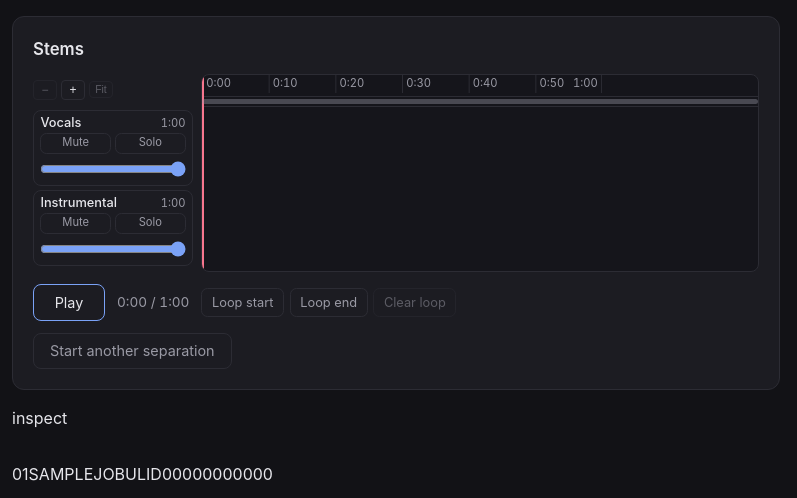
StemPlayer loop region (feature 053) › marks the loop start at the playhead, running to the end of the mix
This screenshot has width=797, height=498.
Expected: the button with aria-label "Mute vocals" is shown, [40,133,111,154]
Expected: the button "Play" is enabled, [33,284,105,321]
Press the mouse on the slider named "Seek" at (480, 189), box [202,107,758,271]
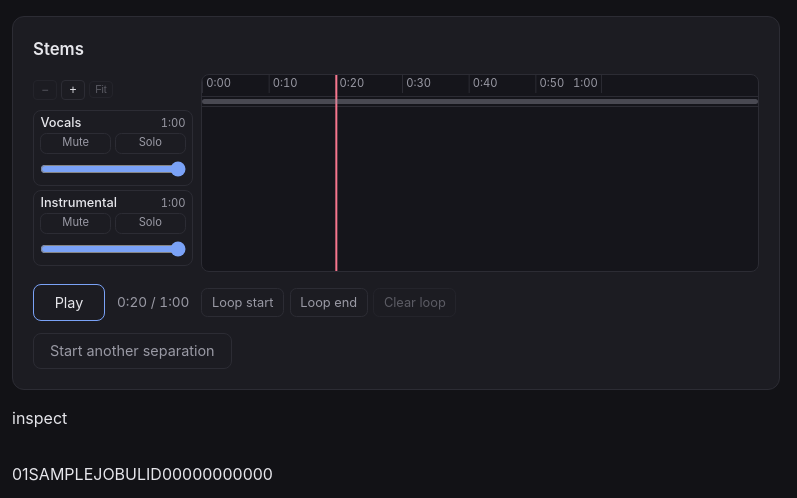
Click the button "Loop start" at (243, 302), box [201,288,284,317]
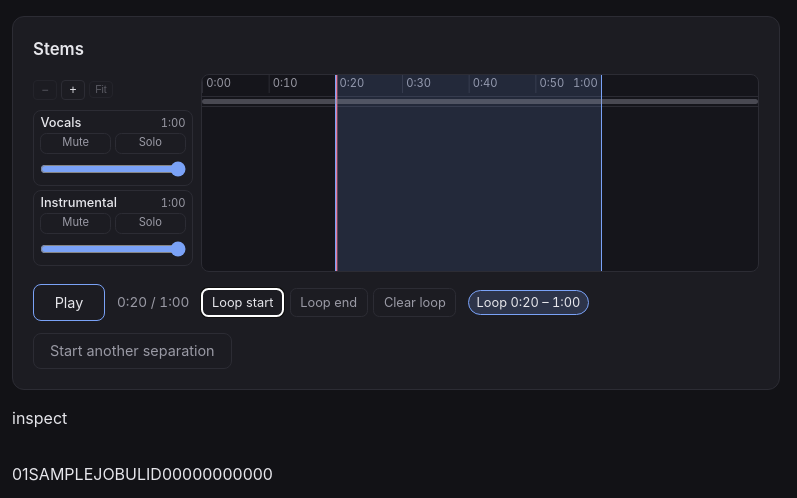
Expected: the text with class "stem-player-loop-badge" reads "Loop 0:20 – 1:00", [477,295,580,310]
